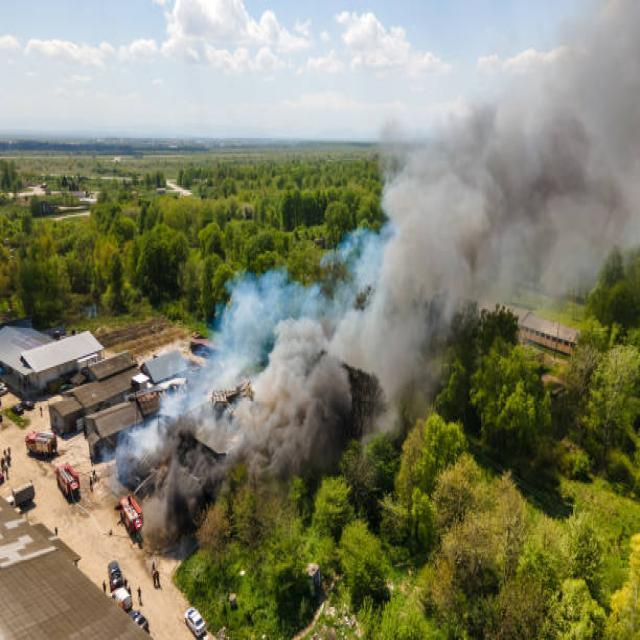Smoke: (394, 121, 574, 324), (511, 4, 640, 280), (242, 256, 430, 438), (163, 340, 289, 480)
